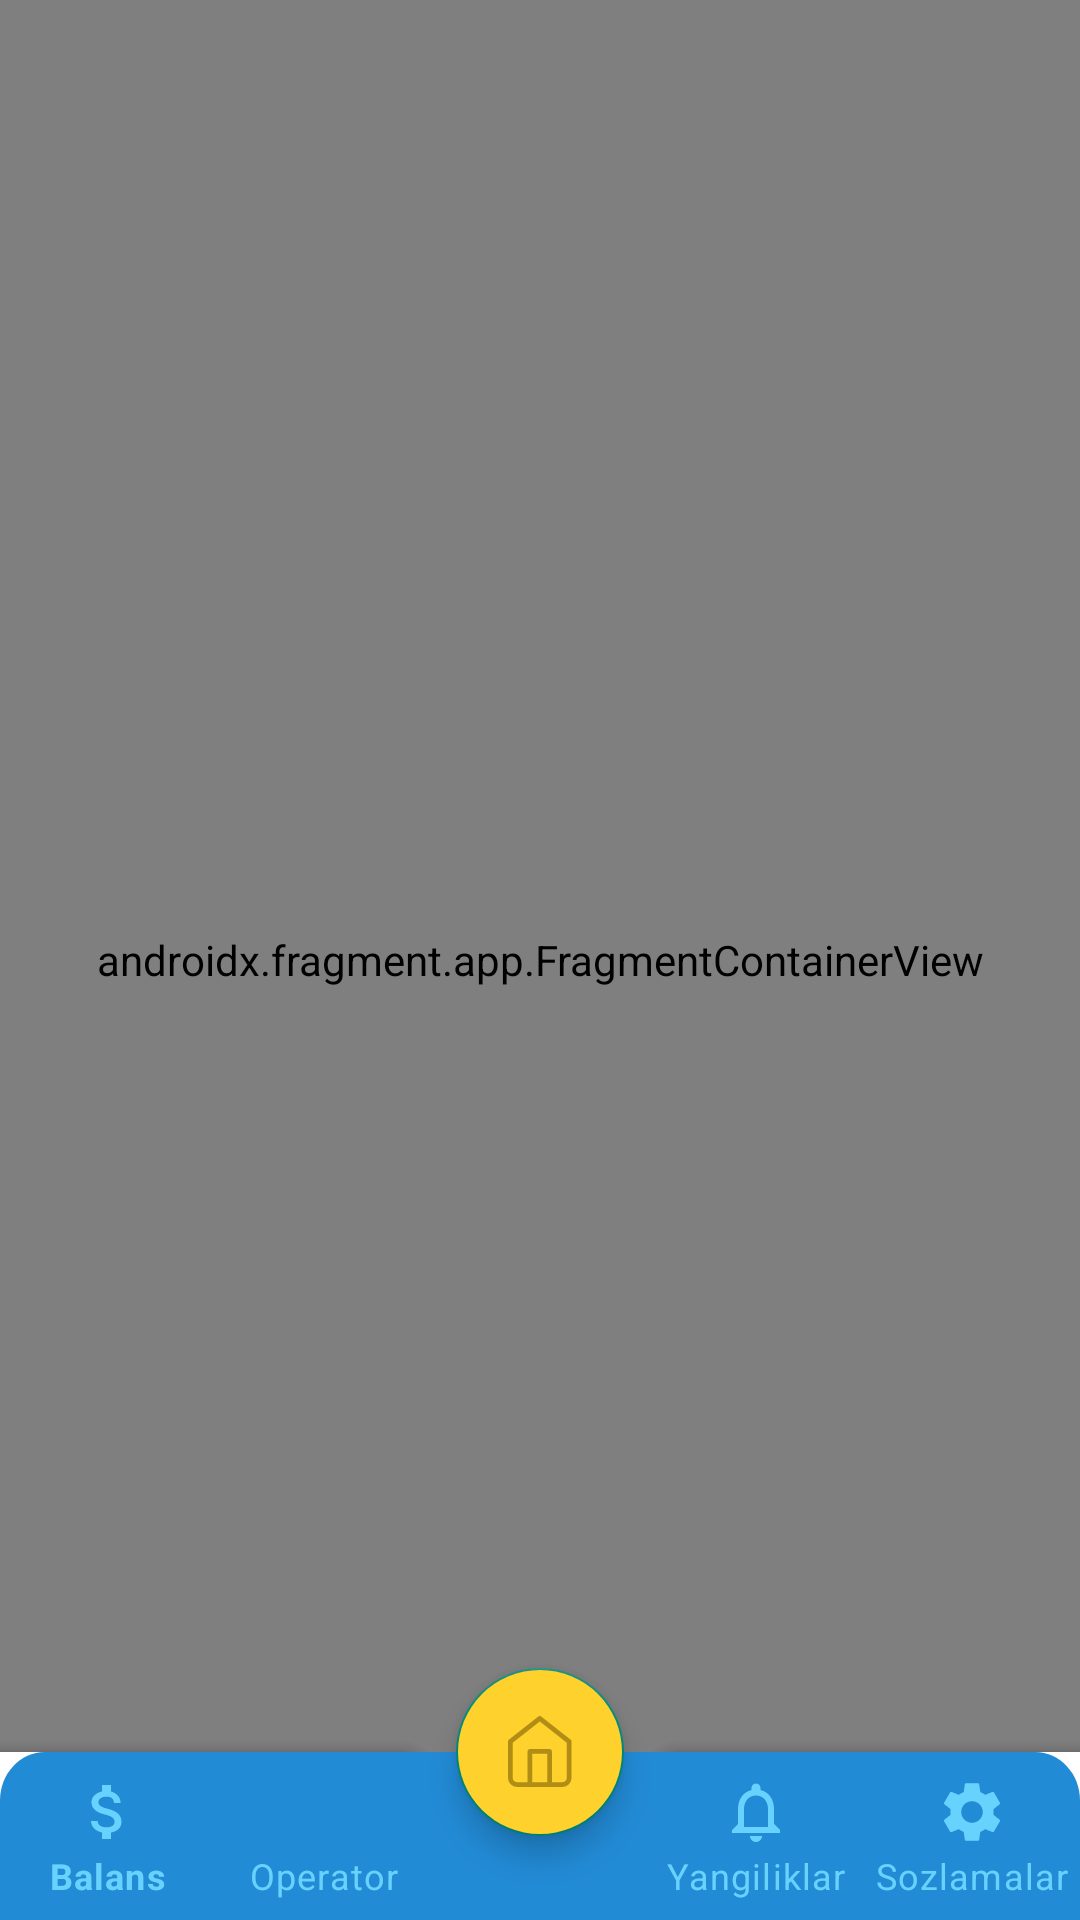

Icon click points for this 1080*1920 phone screenshot, format point (x, y):
home: point (540, 1752)
